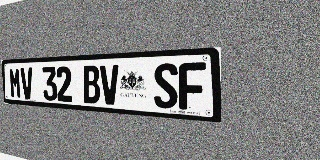2: (56, 66, 72, 102)
3: (42, 67, 57, 101)
B: (82, 65, 101, 104)
F: (178, 62, 206, 111)
M: (9, 68, 22, 99)
S: (153, 63, 178, 109)
V: (100, 65, 120, 105), (20, 67, 34, 99)
